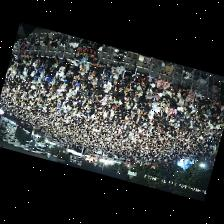person: (122, 58, 137, 81), (55, 59, 68, 78), (76, 68, 89, 84), (61, 69, 72, 87), (50, 57, 63, 71), (90, 63, 103, 76), (156, 78, 169, 91), (79, 55, 88, 73), (149, 101, 159, 117), (128, 77, 137, 93), (89, 70, 100, 83), (111, 65, 122, 78), (68, 59, 79, 72), (95, 85, 105, 99), (43, 72, 54, 84), (89, 85, 99, 98), (179, 85, 189, 98), (103, 77, 112, 91), (44, 57, 55, 68), (137, 74, 147, 86), (169, 84, 178, 97), (36, 56, 46, 67), (145, 94, 154, 106), (79, 61, 88, 73), (104, 63, 111, 78), (118, 79, 126, 92), (163, 96, 173, 106), (112, 74, 121, 85), (92, 78, 101, 89), (185, 94, 193, 106), (202, 96, 210, 108), (47, 75, 55, 87), (176, 96, 183, 109), (141, 82, 150, 92), (160, 101, 168, 112), (195, 89, 201, 103), (37, 67, 44, 79), (148, 76, 156, 86), (151, 86, 159, 96), (163, 88, 171, 98), (188, 88, 196, 98), (101, 68, 106, 83), (136, 83, 142, 95), (146, 88, 153, 98), (35, 65, 42, 75), (209, 96, 215, 107), (124, 85, 130, 96), (22, 54, 30, 62), (92, 42, 101, 49), (174, 91, 180, 101), (155, 92, 162, 100), (16, 54, 23, 61), (182, 100, 187, 109), (25, 59, 31, 66)
